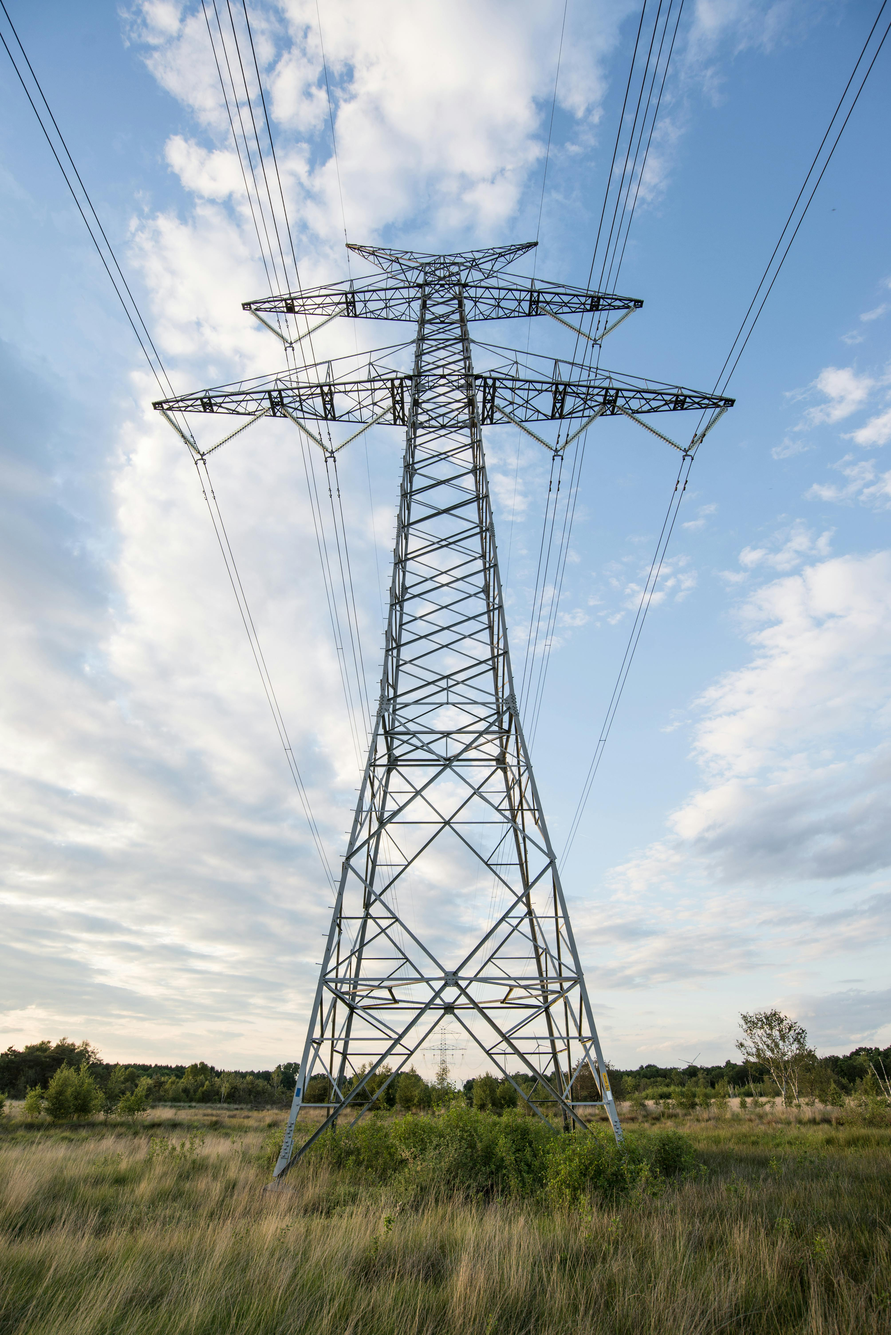insulator: (481, 393, 554, 455), (611, 403, 682, 465), (334, 406, 405, 463), (686, 398, 736, 468), (205, 408, 267, 461), (288, 301, 348, 354), (272, 406, 331, 457), (591, 303, 654, 350), (529, 300, 589, 343), (559, 404, 606, 458), (156, 409, 204, 457), (245, 306, 291, 350)
